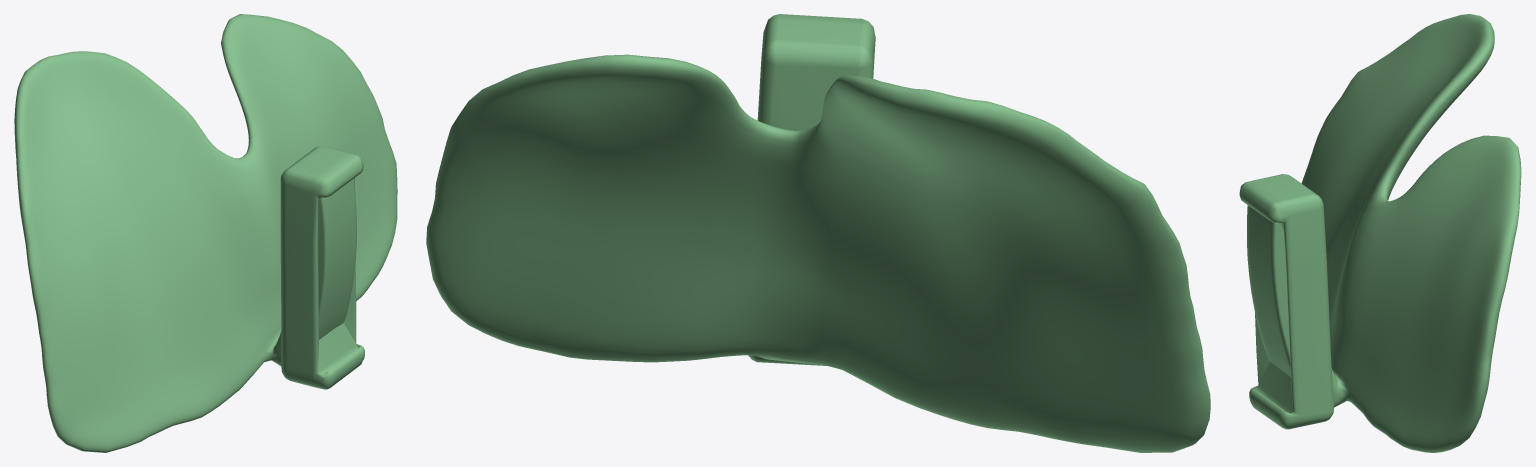
Rendered from TR2_Spacers_BaguetteMetal.001 3.glb.
The picture shows the model from 3 angles, left to right: view 1: azimuth 30°, elevation 25°; view 2: azimuth 150°, elevation 25°; view 3: azimuth 270°, elevation 25°; orthographic projection. The views are drawn at different scales.
Parts seen in each view (by area): view 1: TR2_Spacers_BaguetteMetal.001; view 2: TR2_Spacers_BaguetteMetal.001; view 3: TR2_Spacers_BaguetteMetal.001.
Boxes of the visible parts, bbox=[...] form: TR2_Spacers_BaguetteMetal.001: bbox=[14, 14, 397, 452]; TR2_Spacers_BaguetteMetal.001: bbox=[426, 14, 1210, 452]; TR2_Spacers_BaguetteMetal.001: bbox=[1239, 14, 1521, 452].
Bounding box in the file's own units: 1.28 × 0.8657 × 0.6891.
